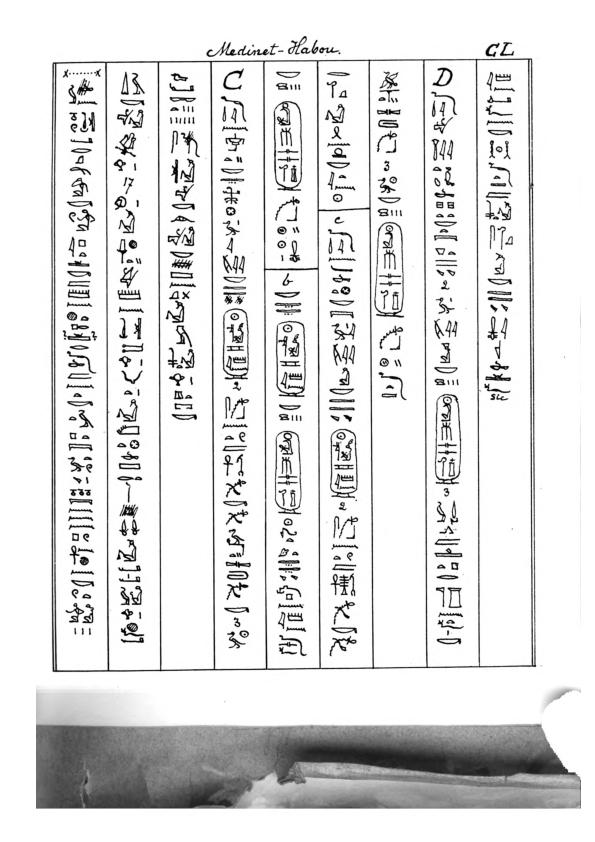circle: (373, 222, 411, 322), (270, 98, 306, 194), (430, 392, 465, 485), (271, 428, 304, 517), (273, 318, 308, 401), (220, 307, 254, 382), (327, 428, 361, 501)
